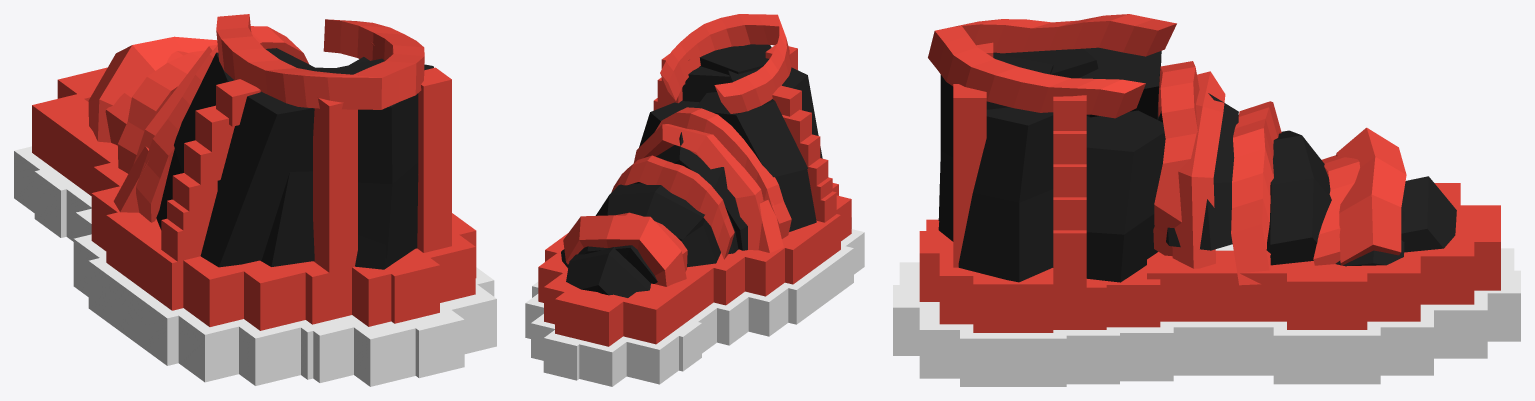
Rendered from Shoe.fbx.
The picture shows the model from 3 angles, left to right: view 1: azimuth 30°, elevation 25°; view 2: azimuth 150°, elevation 25°; view 3: azimuth 270°, elevation 25°; orthographic projection. The views are drawn at different scales.
Visible parts, largest first — view 1: group_1790509321, group_955315948, group_20567187, mesh_1014259861, mesh_82477673, group_1578994848, group_1203076513, mesh_580000549, mesh_715976987, mesh_1751111464, group_932499660, mesh_1553770992 (+39 smaller); view 2: group_1790509321, group_1203076513, group_1915990489, group_1532064820, group_1120952238, group_1578994848, group_469155763, group_704902560, mesh_1894671333, mesh_396418139, group_1044028453, mesh_1241925371 (+38 smaller); view 3: group_1790509321, group_235746797, group_439691487, group_1203076513, group_1120952238, group_469155763, group_1915990489, group_1578994848, mesh_391598313, mesh_82477673, mesh_527383836, mesh_186067871 (+38 smaller).
Part boxes in pixels (x1=…): group_1790509321: x1=216, y1=14, x2=424, y2=109; group_955315948: x1=200, y1=66, x2=325, y2=267; group_20567187: x1=320, y1=58, x2=418, y2=258; mesh_1014259861: x1=313, y1=98, x2=357, y2=272; mesh_82477673: x1=417, y1=67, x2=451, y2=252; group_1578994848: x1=136, y1=26, x2=308, y2=222; group_1203076513: x1=88, y1=36, x2=217, y2=142; mesh_580000549: x1=243, y1=260, x2=305, y2=330; mesh_715976987: x1=344, y1=317, x2=415, y2=386; mesh_1751111464: x1=183, y1=256, x2=254, y2=326; group_932499660: x1=260, y1=171, x2=314, y2=266; mesh_1553770992: x1=233, y1=319, x2=300, y2=385; group_1790509321: x1=660, y1=14, x2=791, y2=113; group_1203076513: x1=563, y1=215, x2=686, y2=286; group_1915990489: x1=634, y1=124, x2=763, y2=250; group_1532064820: x1=696, y1=92, x2=807, y2=177; group_1120952238: x1=611, y1=155, x2=734, y2=259; group_1578994848: x1=655, y1=107, x2=791, y2=238; group_469155763: x1=595, y1=183, x2=704, y2=240; group_704902560: x1=566, y1=247, x2=650, y2=297; mesh_1894671333: x1=623, y1=289, x2=675, y2=344; mesh_396418139: x1=626, y1=334, x2=678, y2=384; group_1044028453: x1=632, y1=132, x2=747, y2=250; mesh_1241925371: x1=579, y1=336, x2=630, y2=386; group_1790509321: x1=928, y1=14, x2=1176, y2=118; group_235746797: x1=958, y1=107, x2=1053, y2=282; group_439691487: x1=1086, y1=110, x2=1165, y2=282; group_1203076513: x1=1336, y1=127, x2=1406, y2=265; group_1120952238: x1=1231, y1=101, x2=1281, y2=285; group_469155763: x1=1266, y1=130, x2=1331, y2=265; group_1915990489: x1=1172, y1=71, x2=1225, y2=268; group_1578994848: x1=1153, y1=61, x2=1199, y2=256; mesh_391598313: x1=1200, y1=250, x2=1293, y2=321; mesh_82477673: x1=953, y1=84, x2=986, y2=267; mesh_527383836: x1=1287, y1=261, x2=1340, y2=329; mesh_186067871: x1=1420, y1=233, x2=1474, y2=304.
Size of the model in its own units: 50 by 48.63 by 94.
